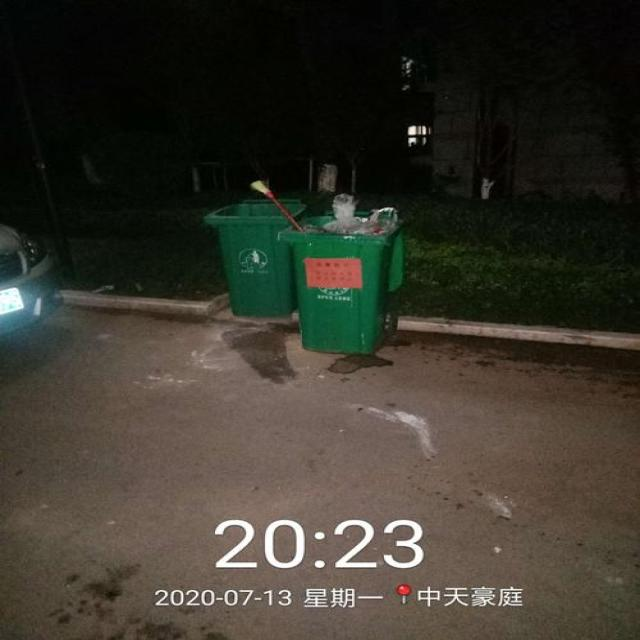garbage_bin: (207, 200, 302, 316)
overflow: (251, 179, 402, 352)
